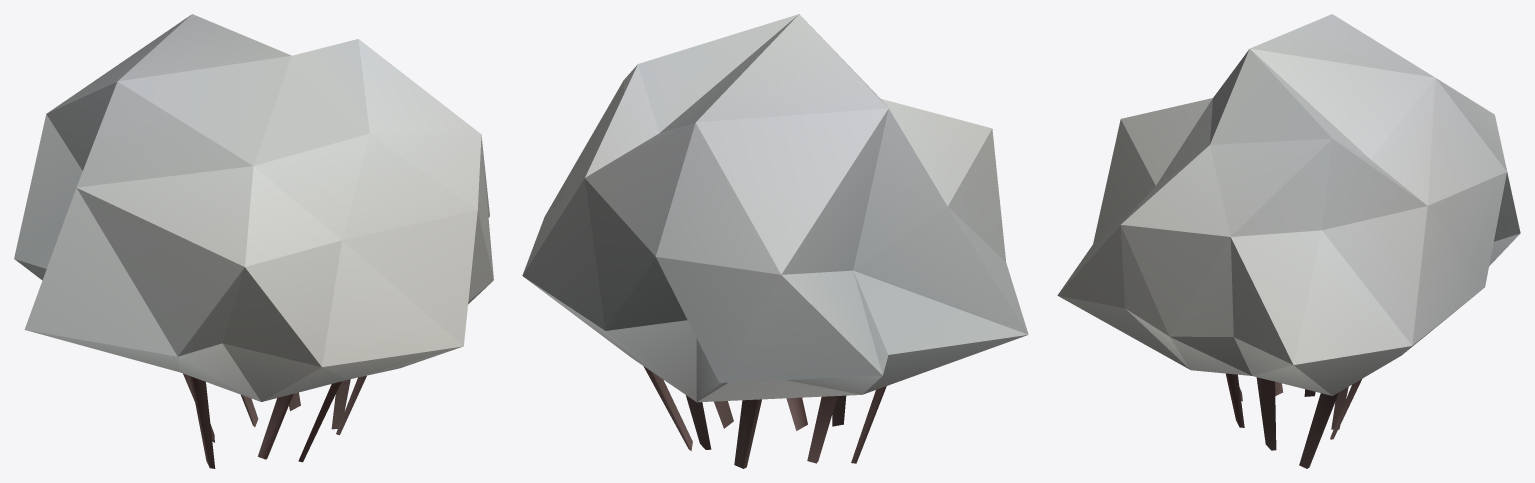
File: sm_bush_single.fbx
3 views of the same model, side by side, from view 1: azimuth 30°, elevation 25°; view 2: azimuth 150°, elevation 25°; view 3: azimuth 270°, elevation 25° (orthographic). The views are drawn at different scales.
Parts seen in each view (by area): view 1: sm_bush_single; view 2: sm_bush_single; view 3: sm_bush_single.
Part boxes in pixels (x1=…): sm_bush_single: x1=14, y1=14, x2=493, y2=468; sm_bush_single: x1=522, y1=14, x2=1028, y2=468; sm_bush_single: x1=1057, y1=14, x2=1520, y2=468.
Size of the model in its own units: 144 by 169 by 156.
